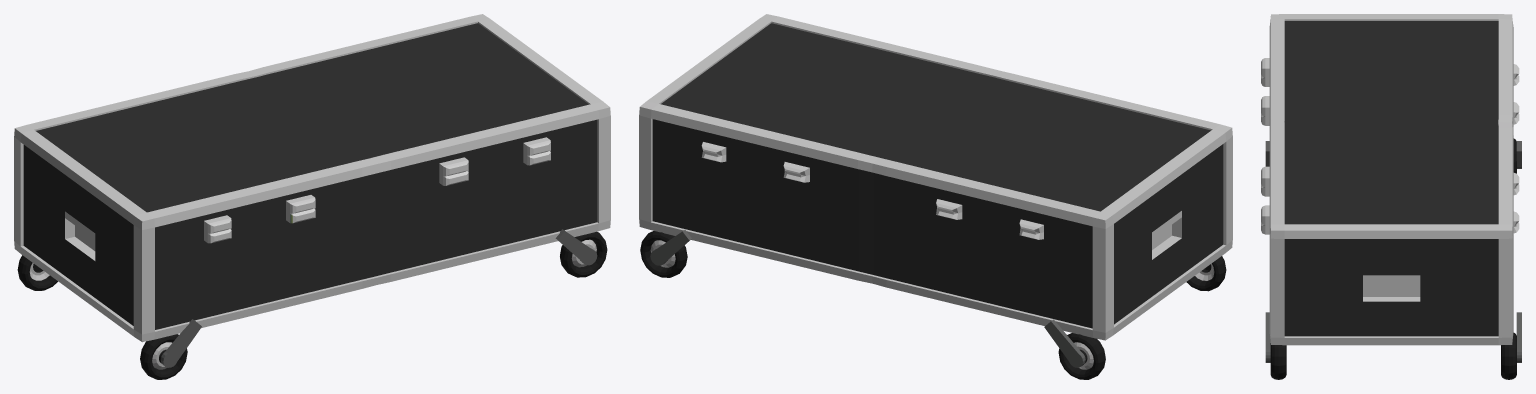
The model's file is LargeWheelBox.fbx.
3 views of the same model, side by side, from view 1: azimuth 30°, elevation 25°; view 2: azimuth 150°, elevation 25°; view 3: azimuth 270°, elevation 25° (orthographic). The views are drawn at different scales.
Parts seen in each view (by area): view 1: LargeWhellBox; view 2: LargeWhellBox; view 3: LargeWhellBox.
Boxes of the visible parts, <box> form: LargeWhellBox: <box>14,14,610,379</box>; LargeWhellBox: <box>639,14,1232,379</box>; LargeWhellBox: <box>1261,14,1521,379</box>.
Size of the model in its own units: 199 by 67.67 by 101.
